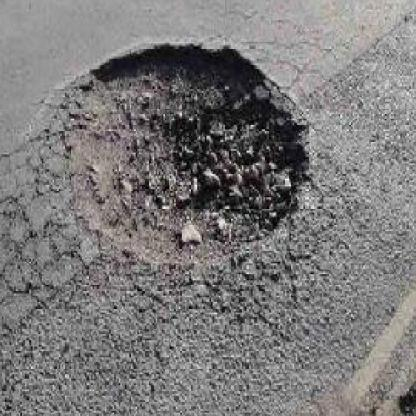pothole: (70, 53, 317, 237)
